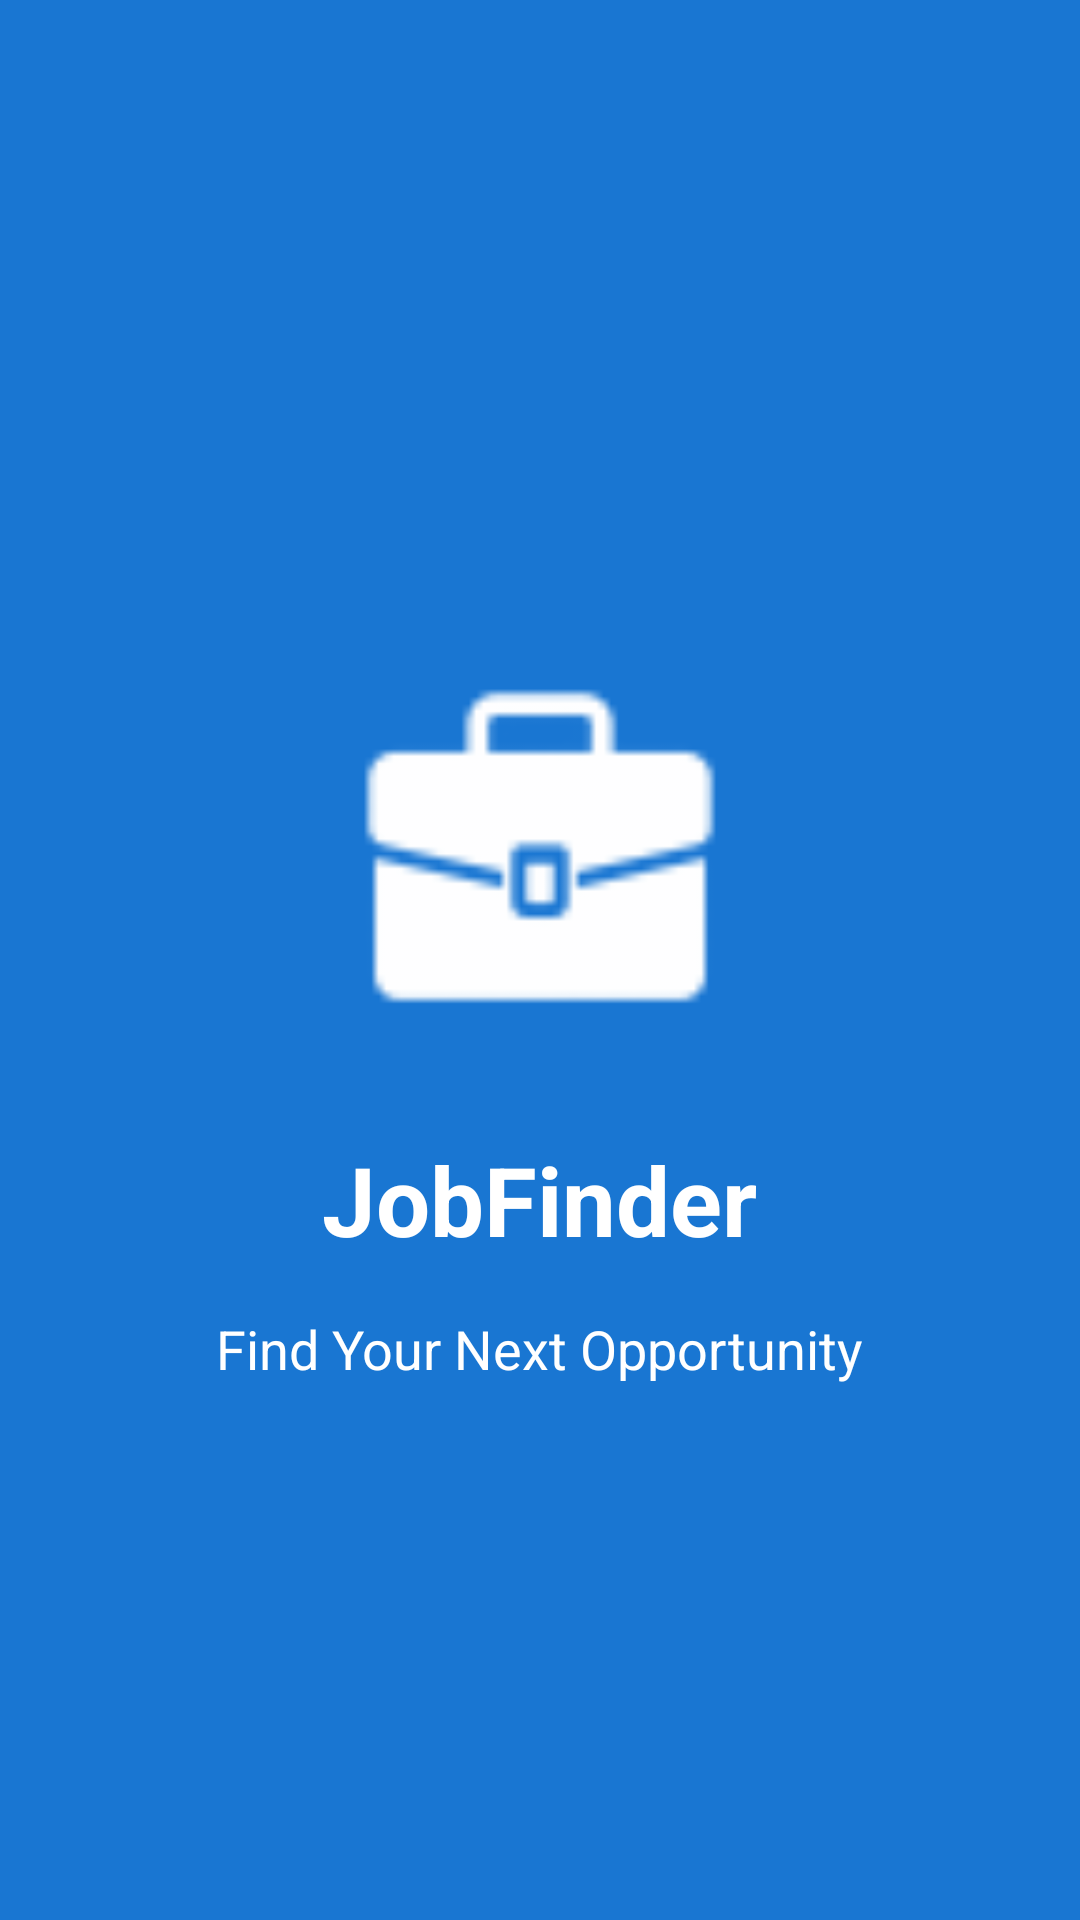

Point at icon controls on the screen. Image size 1080px x 1920px, points as (x,y).
briefcase: (540,846)
